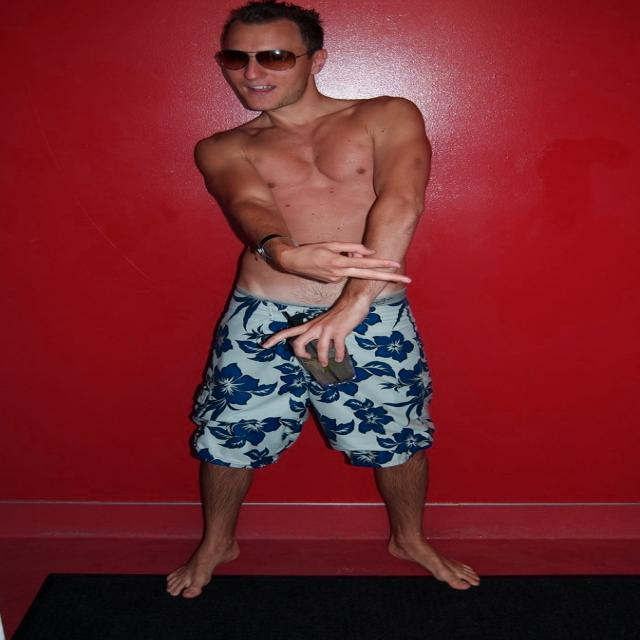piel: (190, 23, 433, 368), (375, 450, 484, 593), (164, 454, 252, 606)
